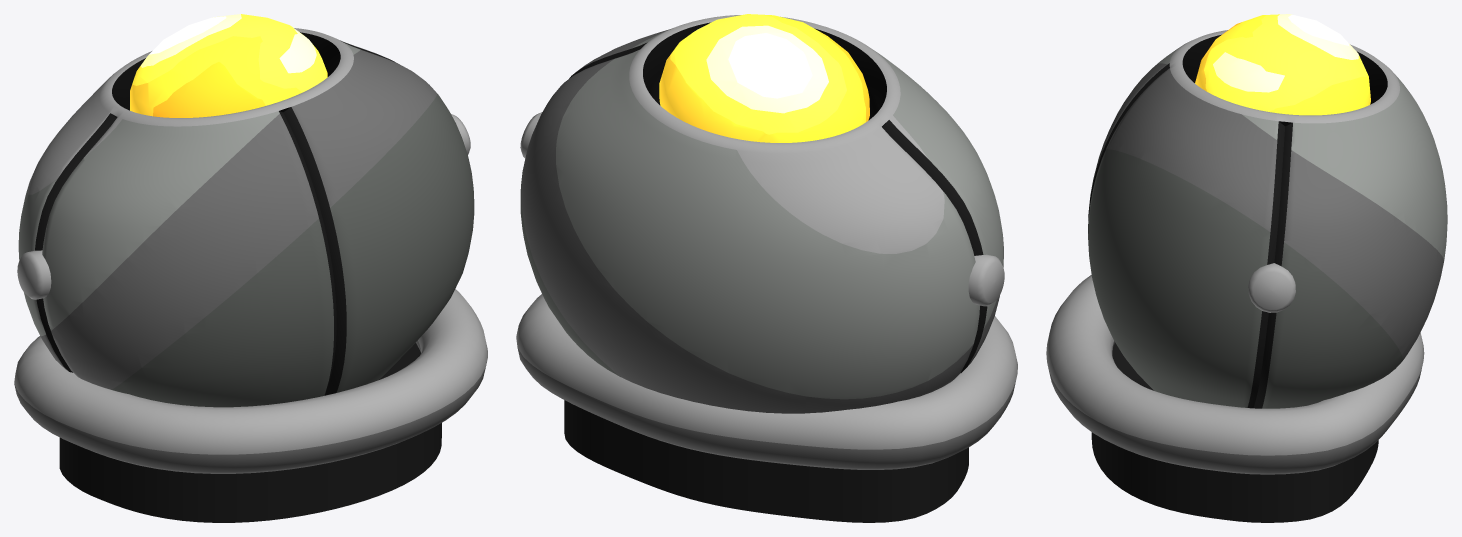
The model's file is eye_orb_125.glb.
3 views of the same model, side by side, from view 1: azimuth 30°, elevation 25°; view 2: azimuth 150°, elevation 25°; view 3: azimuth 270°, elevation 25° (orthographic). The views are drawn at different scales.
Parts seen in each view (by area): view 1: shell, rim, foot, eye, boss-1; view 2: shell, rim, eye, foot, boss-1; view 3: shell, rim, eye, foot, boss1.
Part boxes in pixels (x1,y1,x2,y2): shell: [18, 28, 474, 407]; rim: [14, 289, 487, 473]; foot: [59, 343, 441, 522]; eye: [130, 14, 327, 117]; boss-1: [17, 250, 51, 299]; shell: [520, 15, 1003, 413]; rim: [516, 294, 1017, 469]; eye: [659, 14, 869, 142]; foot: [564, 400, 968, 522]; boss-1: [968, 254, 1004, 306]; shell: [1088, 30, 1447, 408]; rim: [1046, 275, 1424, 474]; eye: [1195, 14, 1370, 115]; foot: [1091, 342, 1378, 522]; boss1: [1248, 263, 1295, 312].
Size of the model in its own units: 22.03 by 19.91 by 17.65.
